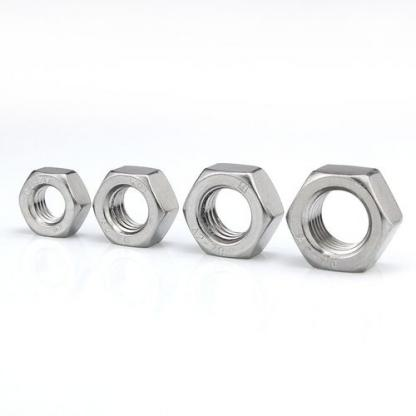FOD: (284, 160, 402, 274), (182, 160, 284, 263), (91, 162, 179, 252), (16, 163, 90, 241)
